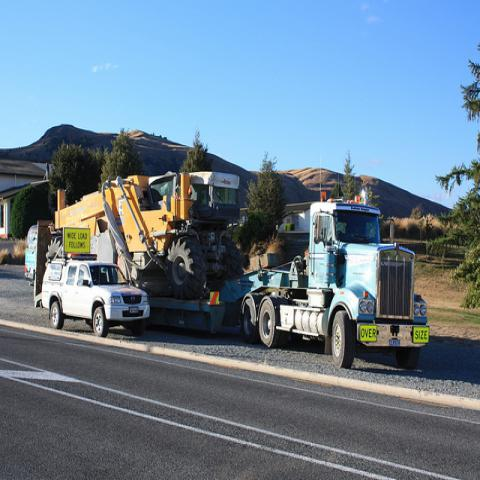truck: (148, 189, 431, 371), (38, 258, 150, 339), (25, 225, 38, 282)
